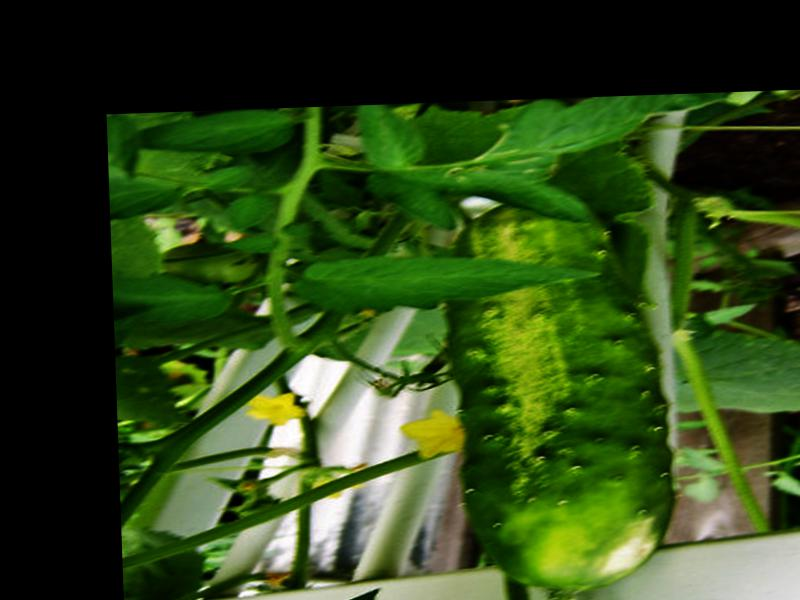Cucumber: (452, 203, 674, 594)
